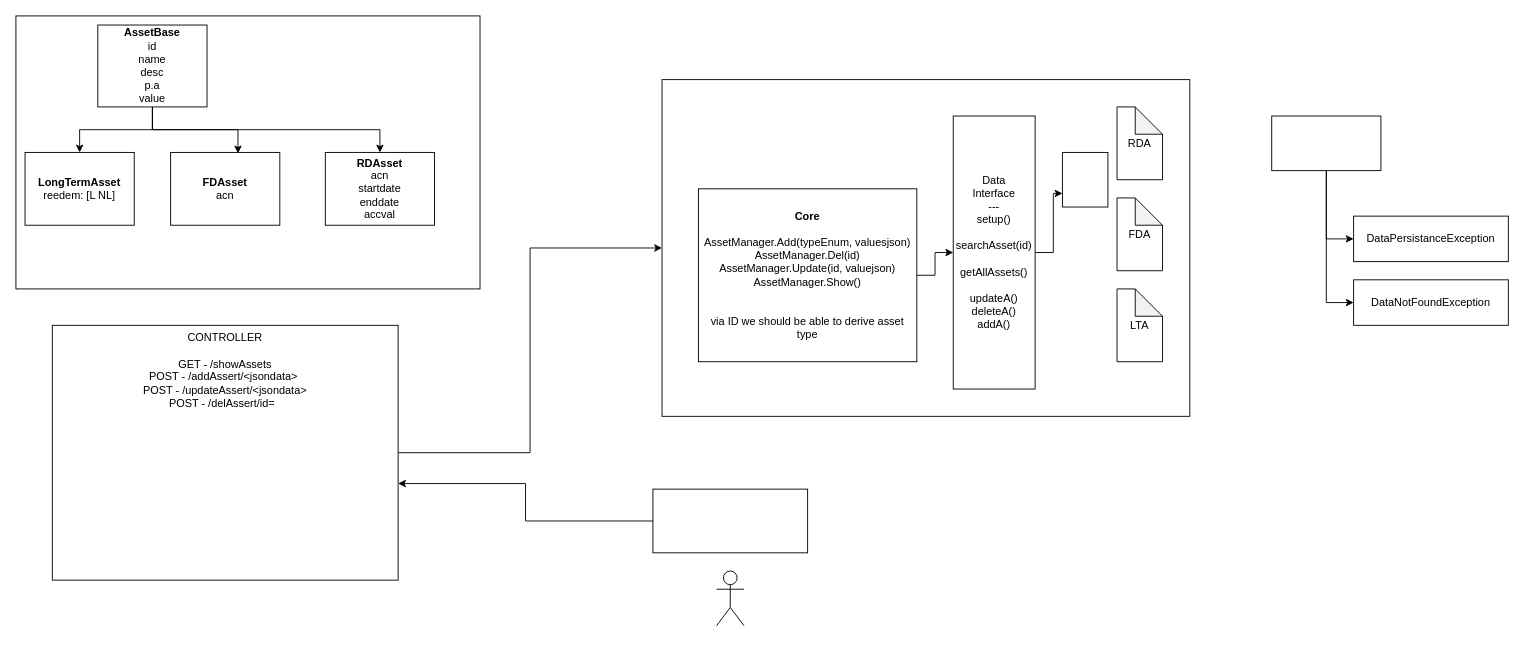
Image size: 1524x661. Some labels were removed from this diagram. The box of each missing label's shape, as (x1, y1, x2, y2) in pixels:
Asset Hierarchy: (15, 15, 480, 289)
ExceptionHerarchy: (1271, 115, 1381, 171)
File handler: (1062, 152, 1108, 207)
MODEL: (661, 79, 1190, 416)
user: (716, 570, 744, 626)
VIEW jinja template + html api calls: (652, 488, 808, 553)
